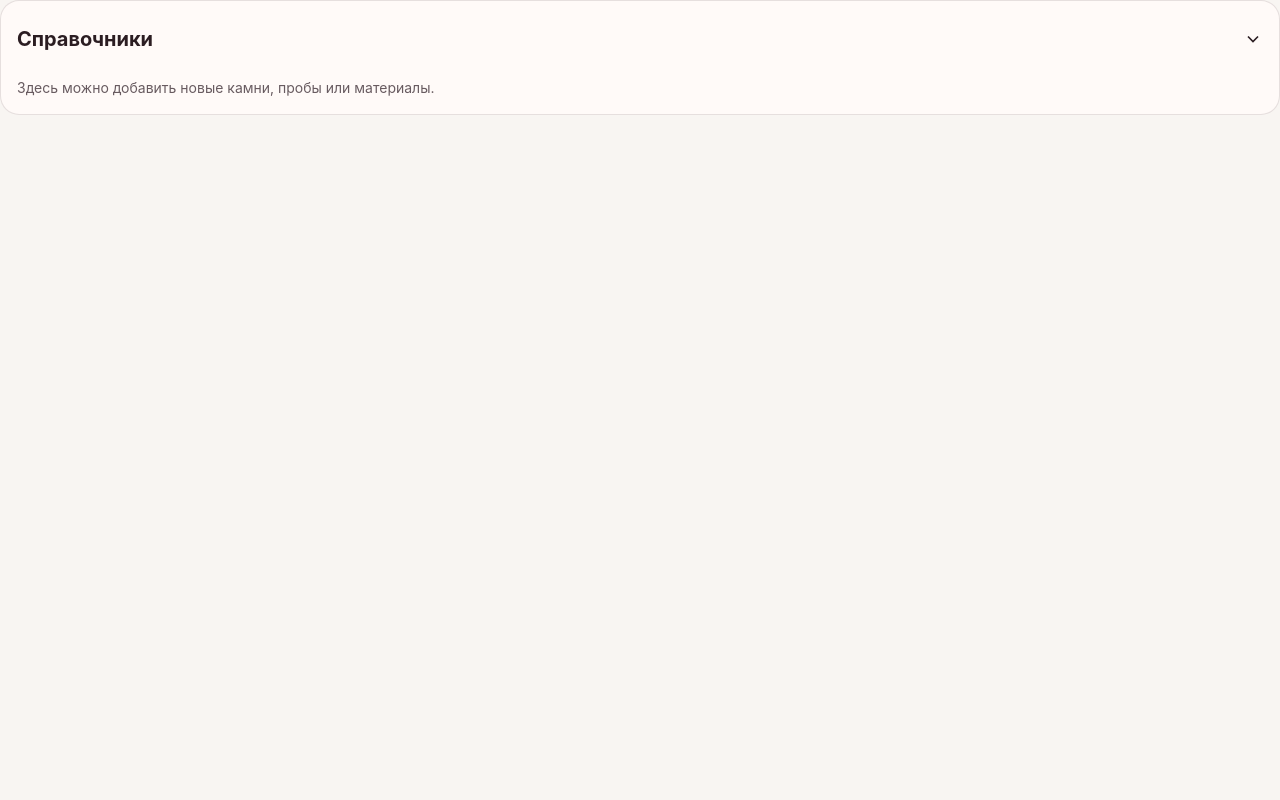
Scenario: keeps creation and inline rename drafts independent
This screenshot has width=1280, height=800.
Click the button "Справочники" at (85,39), box top-left (17, 17), bottom-right (1263, 61)
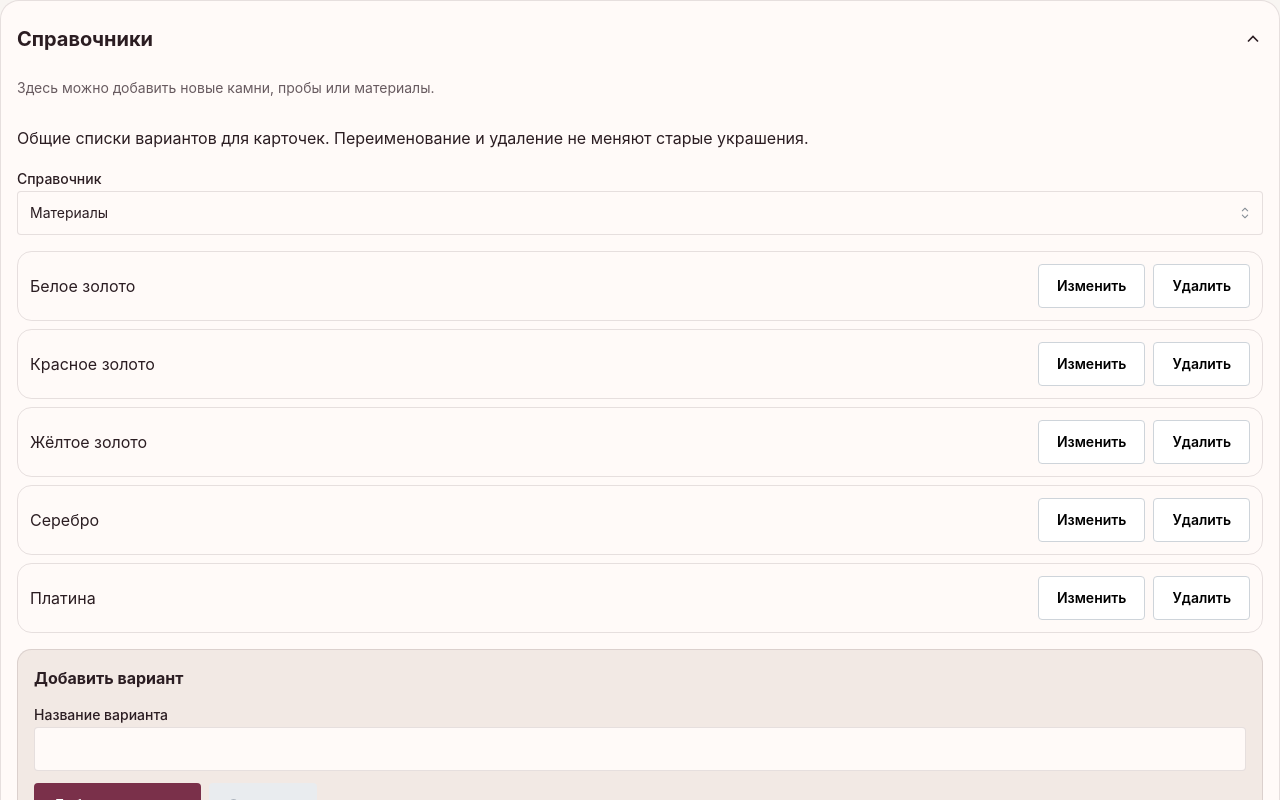
Type "Новый материал" into the field labelled "Название варианта" at (640,749), box top-left (34, 727), bottom-right (1246, 771)
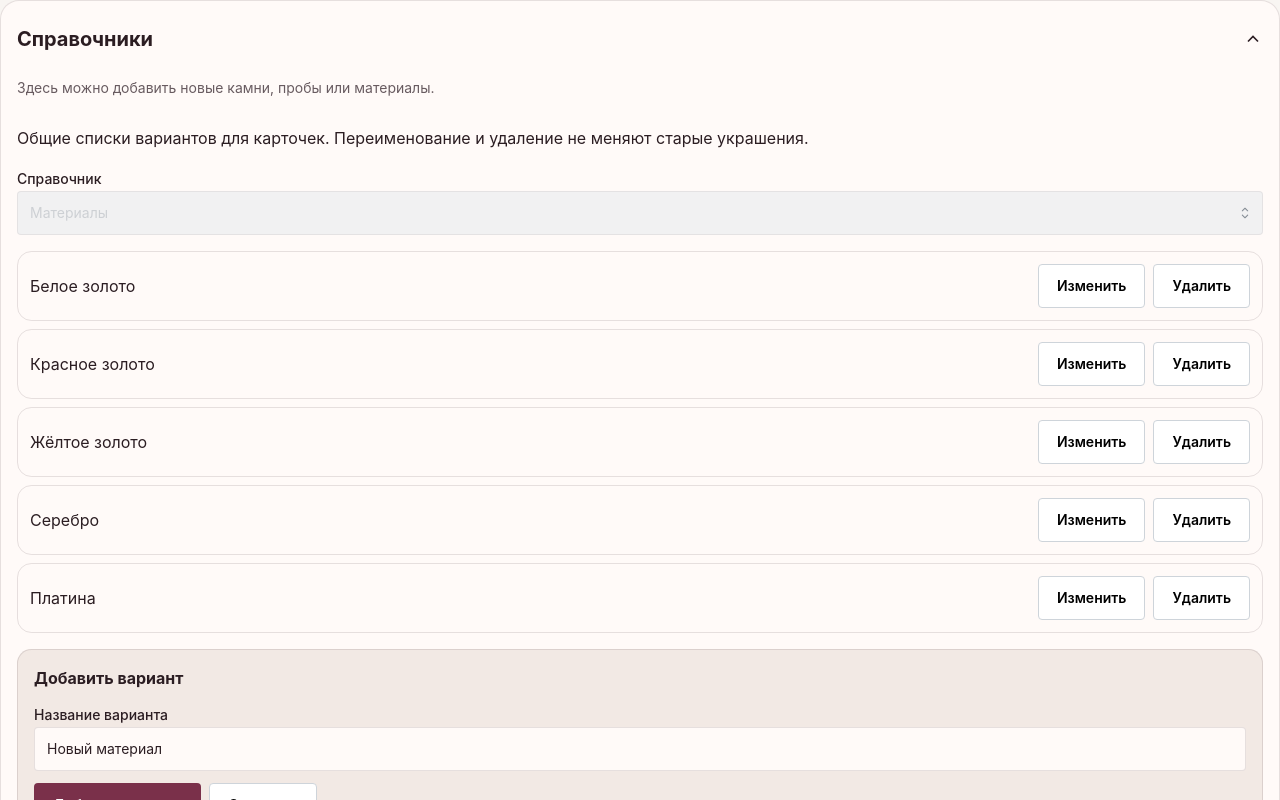
Click the button with aria-label "Изменить «Белое золото»" at (1092,286), box top-left (1038, 264), bottom-right (1145, 308)
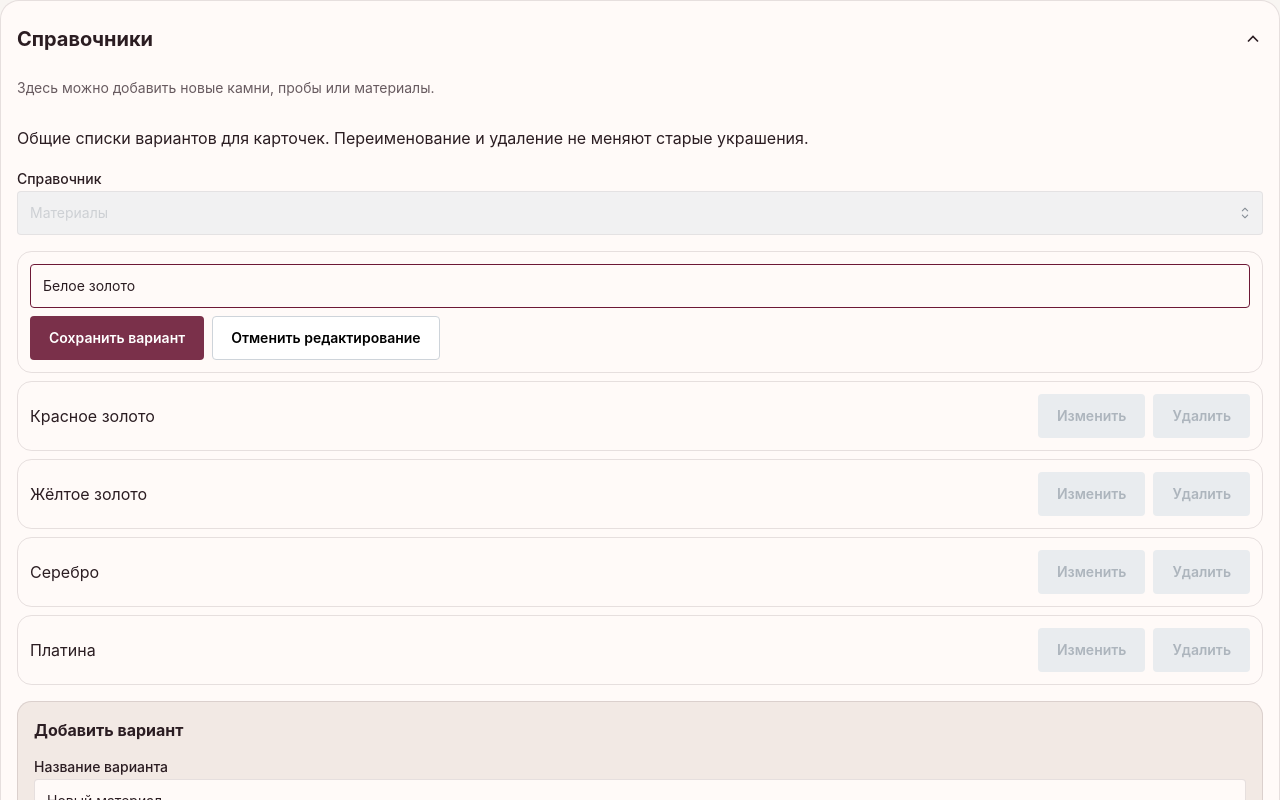
Replace the text in the field named "Название варианта «Белое золото»" with "Другое название" at (640,286), box top-left (30, 264), bottom-right (1250, 308)
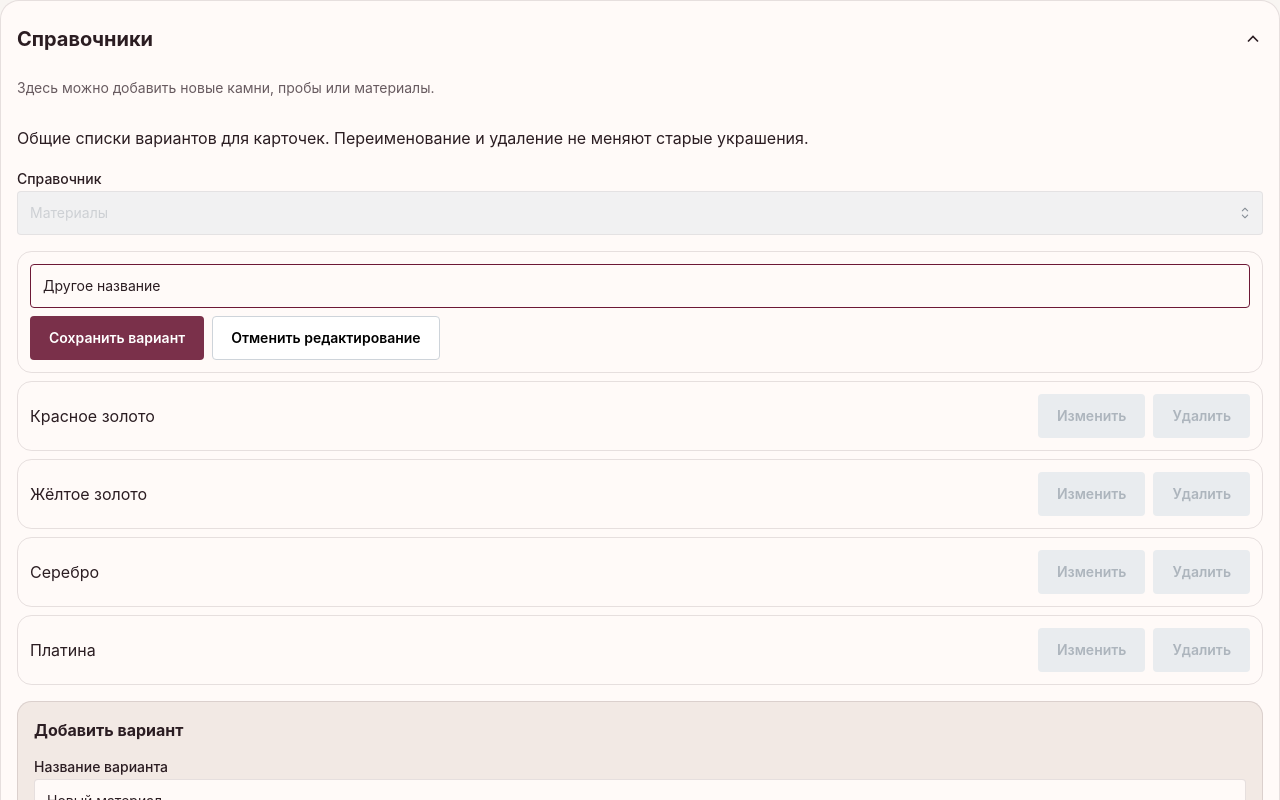
Click the button "Сохранить вариант" at (117,338), box top-left (30, 316), bottom-right (204, 360)
(page scrolled)
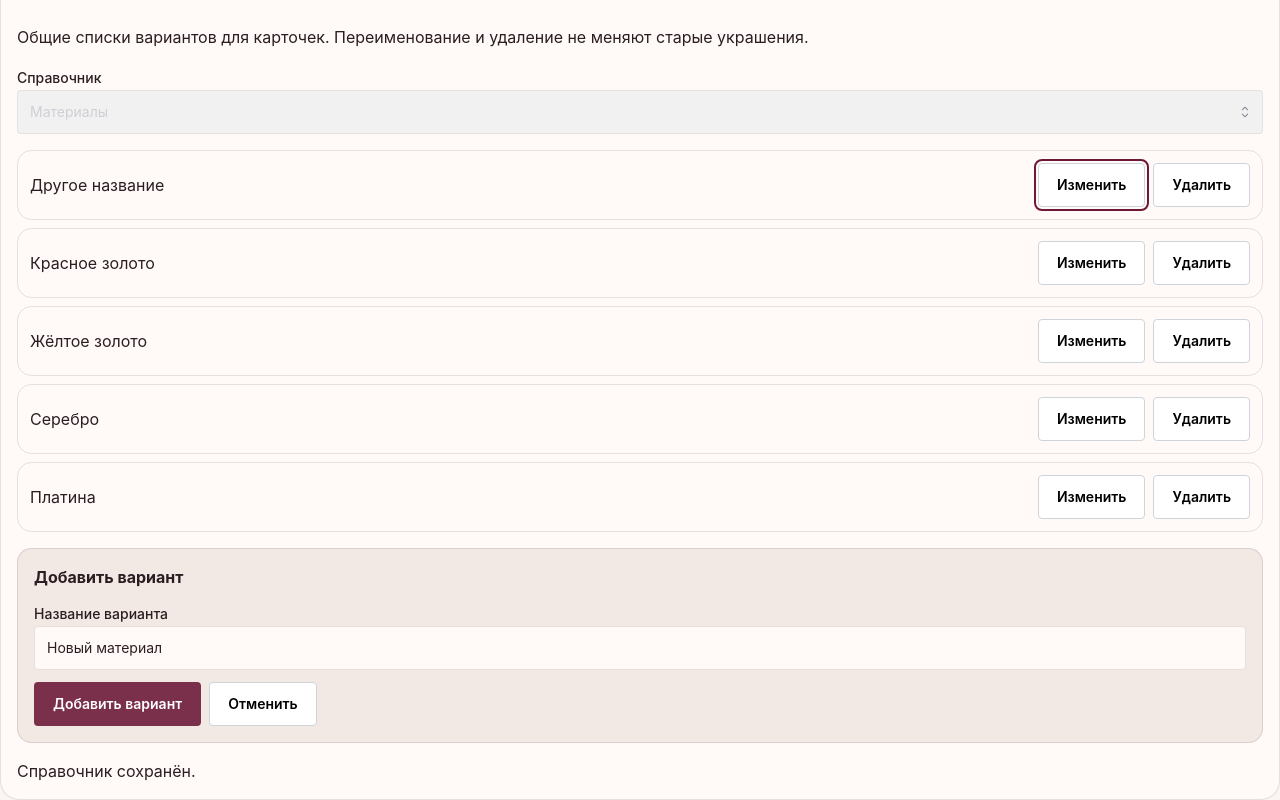
Check: the button with aria-label "Изменить «Другое название»" is shown, box top-left (1038, 163), bottom-right (1145, 207)
Click the button "Добавить вариант" at (118,704), box top-left (34, 682), bottom-right (201, 726)
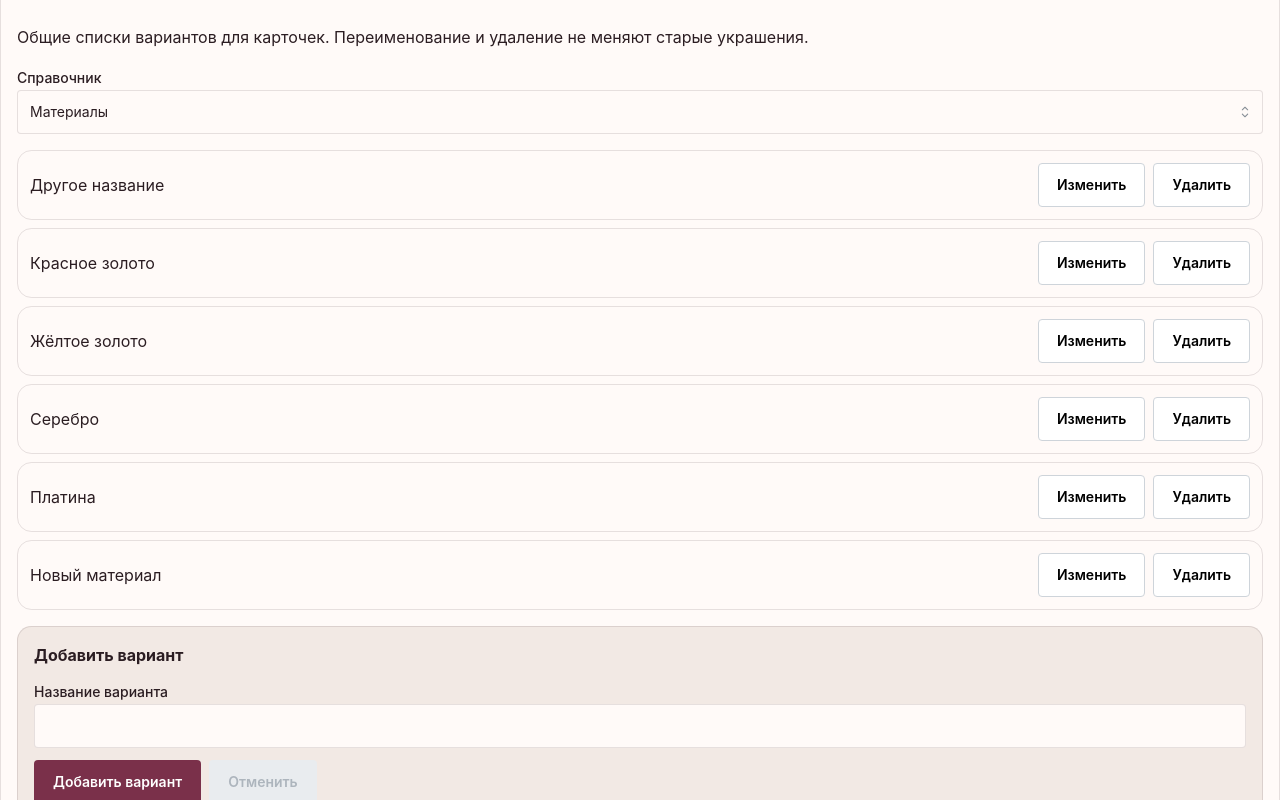
Check: the text "Новый материал" is shown, box top-left (30, 565), bottom-right (162, 585)
